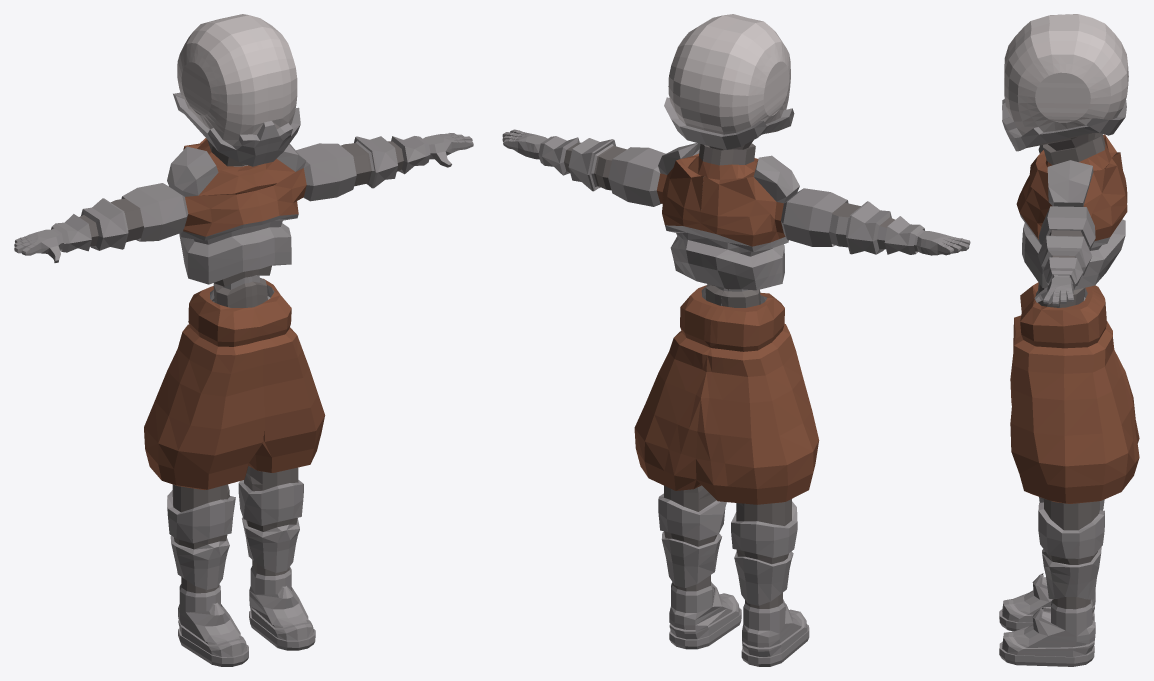
The model's file is personajeTFG_parte14_cuerpoentero2.fbx.
The picture shows the model from 3 angles, left to right: view 1: azimuth 30°, elevation 25°; view 2: azimuth 150°, elevation 25°; view 3: azimuth 270°, elevation 25°; orthographic projection.
Visible parts, largest first — view 1: Pecho2; view 2: Pecho2; view 3: Pecho2.
Boxes of the visible parts, left/top/right/bottom form: Pecho2: left=14, top=14, right=473, bottom=666; Pecho2: left=502, top=14, right=970, bottom=666; Pecho2: left=999, top=14, right=1139, bottom=666.
Bounding box in the file's own units: 140 × 36.9 × 179.
